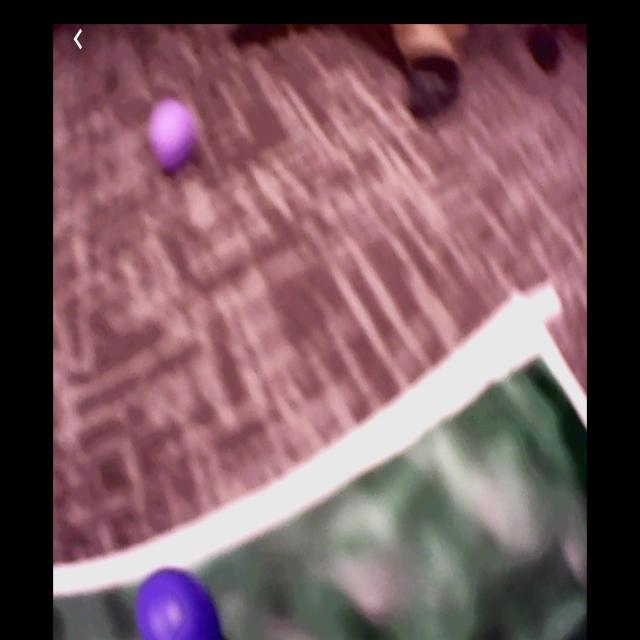ball: (134, 568, 220, 640), (149, 97, 194, 171)
